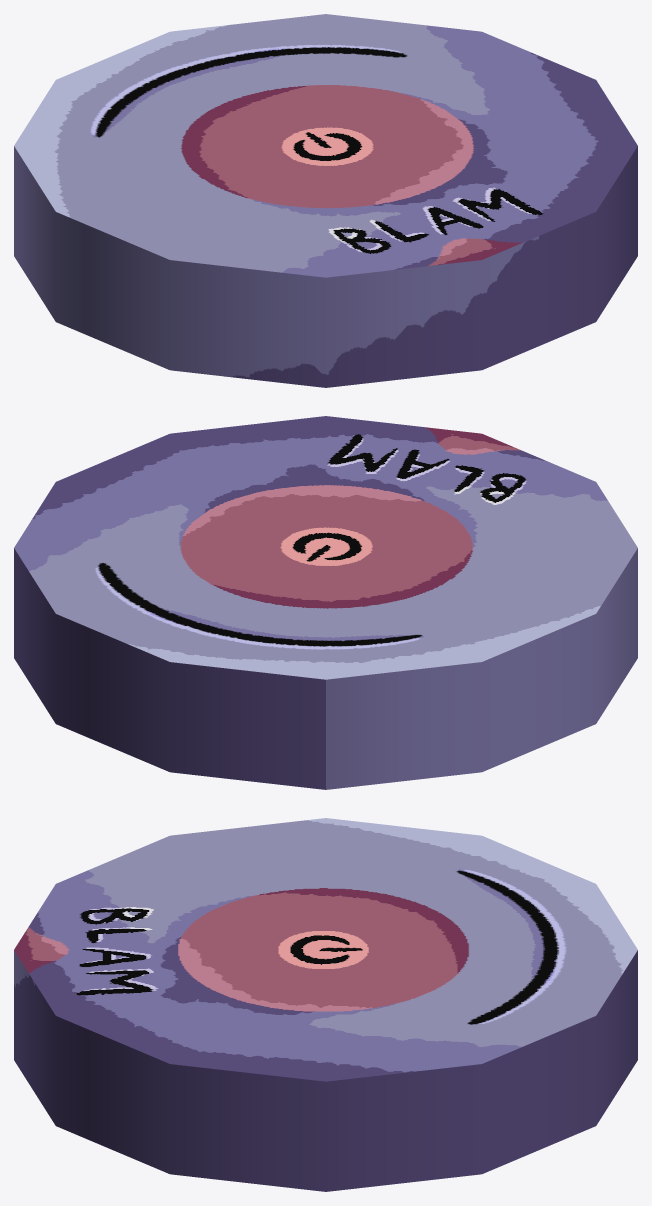
The model's file is Roomba Model.fbx.
3 renders of one model, top to bottom at view 1: azimuth 30°, elevation 25°; view 2: azimuth 150°, elevation 25°; view 3: azimuth 270°, elevation 25°, orthographic.
Visible parts, largest first — view 1: Cylinder001; view 2: Cylinder001; view 3: Cylinder001.
Part boxes in pixels (box(x1,y1,x2,y2)): Cylinder001: box(14, 14, 637, 387); Cylinder001: box(14, 416, 637, 789); Cylinder001: box(14, 818, 637, 1191).
Bounding box in the file's own units: 25.56 × 4.98 × 25.56.
1 material, 1 textured.
